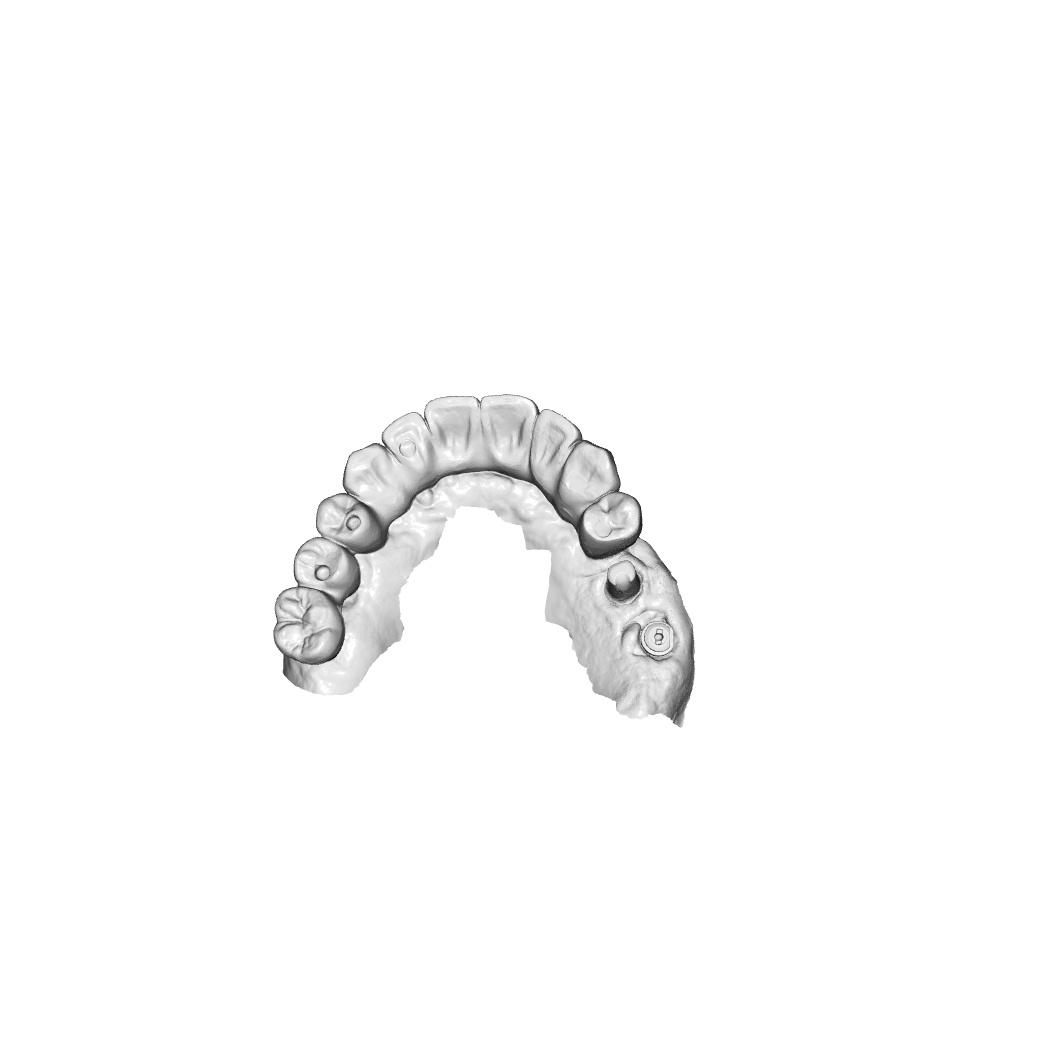abutment: (603, 559, 643, 605)
canine: (341, 442, 411, 520), (558, 439, 622, 515)
implant_minus: (638, 620, 675, 660)
incisor: (480, 393, 540, 475), (528, 407, 583, 494), (423, 394, 479, 474), (381, 411, 431, 469)
molar: (272, 585, 346, 666)
premolar: (292, 536, 361, 606), (577, 491, 644, 560), (315, 492, 388, 554)
